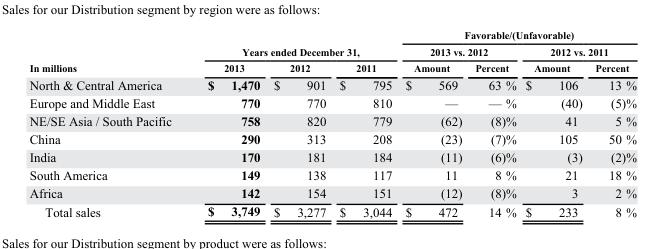table: (28, 28, 635, 218)
table column: (28, 28, 188, 218), (188, 28, 266, 218), (398, 28, 467, 218), (520, 28, 588, 218), (266, 28, 332, 218), (332, 28, 398, 218), (467, 28, 520, 218), (588, 28, 635, 218)
table column header: (28, 28, 635, 75)
table row: (28, 165, 635, 184), (28, 75, 635, 93), (28, 93, 635, 111), (28, 111, 635, 129), (28, 129, 635, 147), (28, 147, 635, 165), (28, 184, 635, 202), (28, 42, 635, 59), (28, 59, 635, 75), (28, 202, 635, 218), (28, 28, 635, 42)
table spanning cell: (28, 28, 188, 75), (188, 28, 398, 59), (398, 28, 635, 42), (398, 42, 520, 59), (520, 42, 635, 59)
